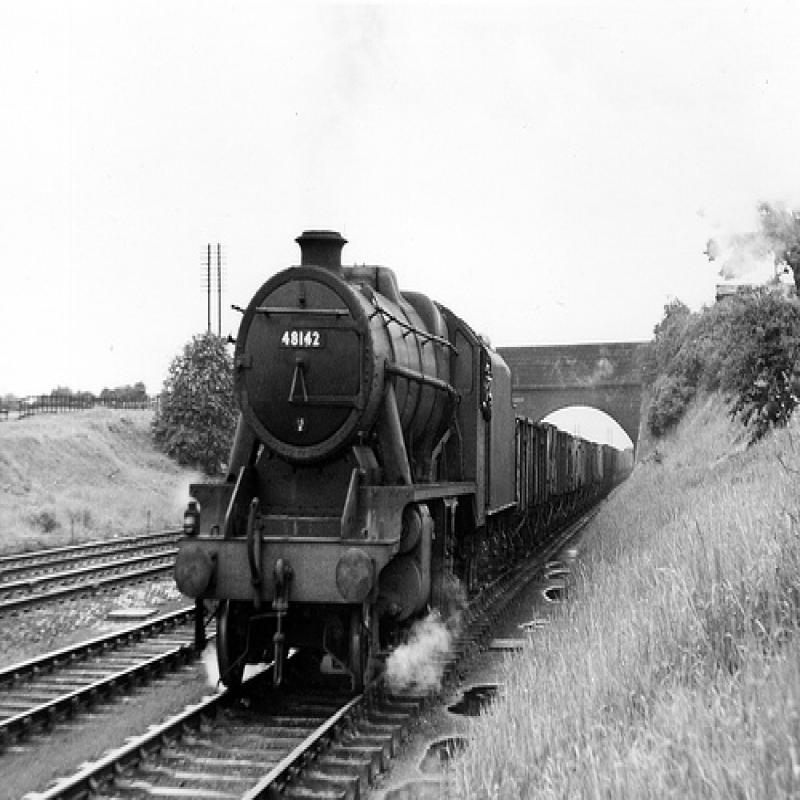train: (174, 231, 639, 697)
